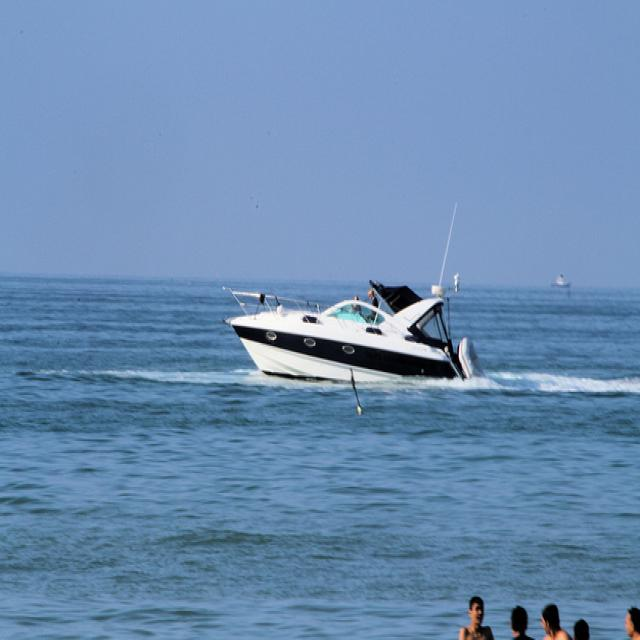houseboat: (231, 235, 483, 399), (549, 264, 572, 300)
